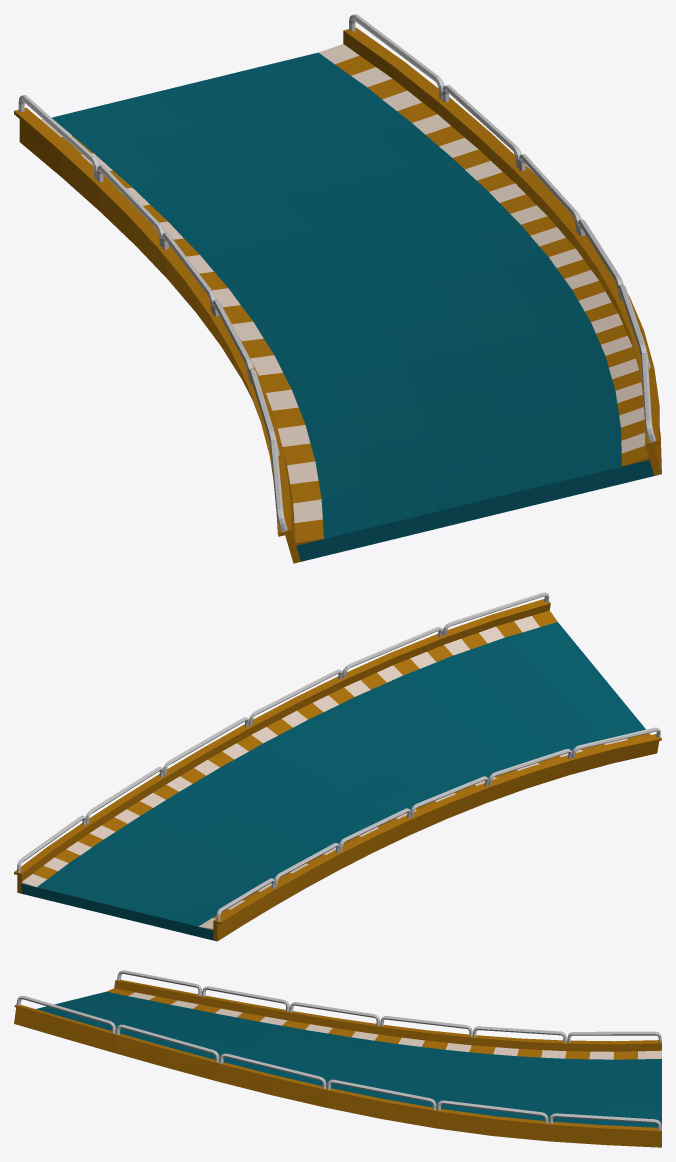
The model's file is curveRight-30-Banked-15.FBX.
3 renders of one model, top to bottom at view 1: azimuth 30°, elevation 25°; view 2: azimuth 150°, elevation 25°; view 3: azimuth 270°, elevation 25°, orthographic. The views are drawn at different scales.
Parts seen in each view (by area): view 1: curveRight-30-banked-15, wall_r, curbs_l, wall_l, curbs_r; view 2: curveRight-30-banked-15, wall_r, wall_l, curbs_l, curbs_r; view 3: curveRight-30-banked-15, wall_l, wall_r, curbs_r.
Part boxes in pixels (bbox=[...]): curveRight-30-banked-15: bbox=[52, 52, 654, 561]; wall_r: bbox=[14, 95, 300, 563]; curbs_l: bbox=[319, 44, 649, 466]; wall_l: bbox=[343, 14, 661, 475]; curbs_r: bbox=[40, 119, 323, 545]; curveRight-30-banked-15: bbox=[21, 622, 645, 940]; wall_r: bbox=[213, 727, 661, 941]; wall_l: bbox=[14, 592, 550, 893]; curbs_l: bbox=[21, 610, 557, 887]; curbs_r: bbox=[198, 733, 650, 930]; curveRight-30-banked-15: bbox=[36, 991, 661, 1127]; wall_l: bbox=[14, 996, 661, 1147]; wall_r: bbox=[114, 970, 661, 1051]; curbs_r: bbox=[107, 988, 661, 1059].
Size of what is drawn, in the model's own units: 348 by 82.76 by 621.
